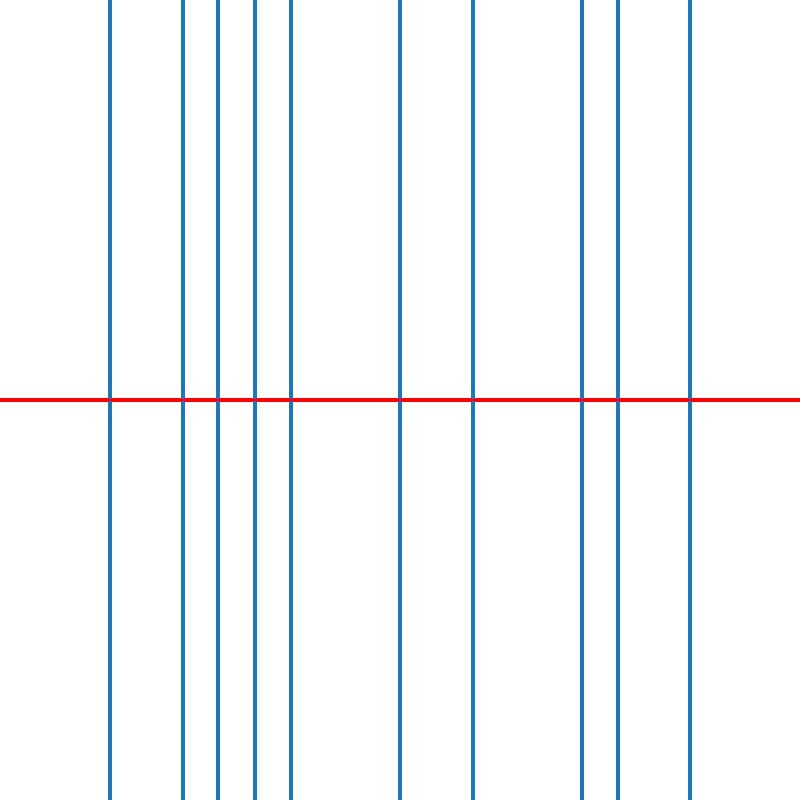root: (250, 396, 258, 404), (687, 396, 694, 404), (105, 396, 112, 404), (396, 396, 403, 404), (214, 396, 221, 404), (578, 396, 585, 404), (469, 396, 476, 404), (287, 396, 294, 404), (178, 396, 185, 404), (614, 396, 621, 404)
